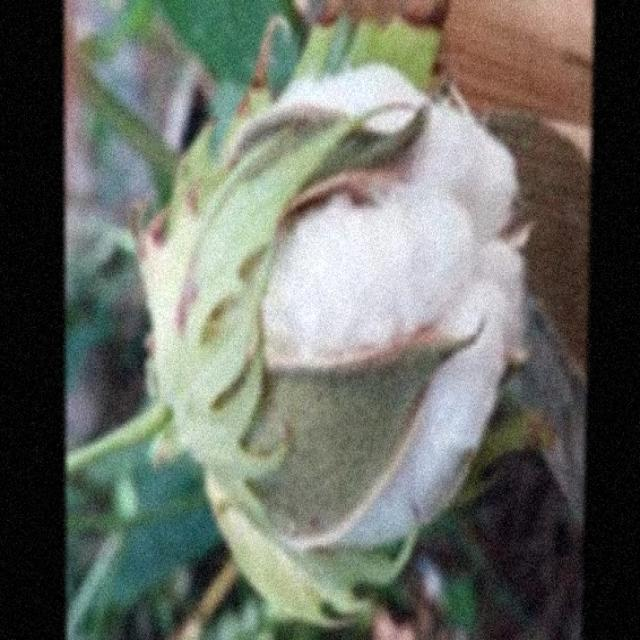Split Cotton Boll: (161, 64, 501, 580)
